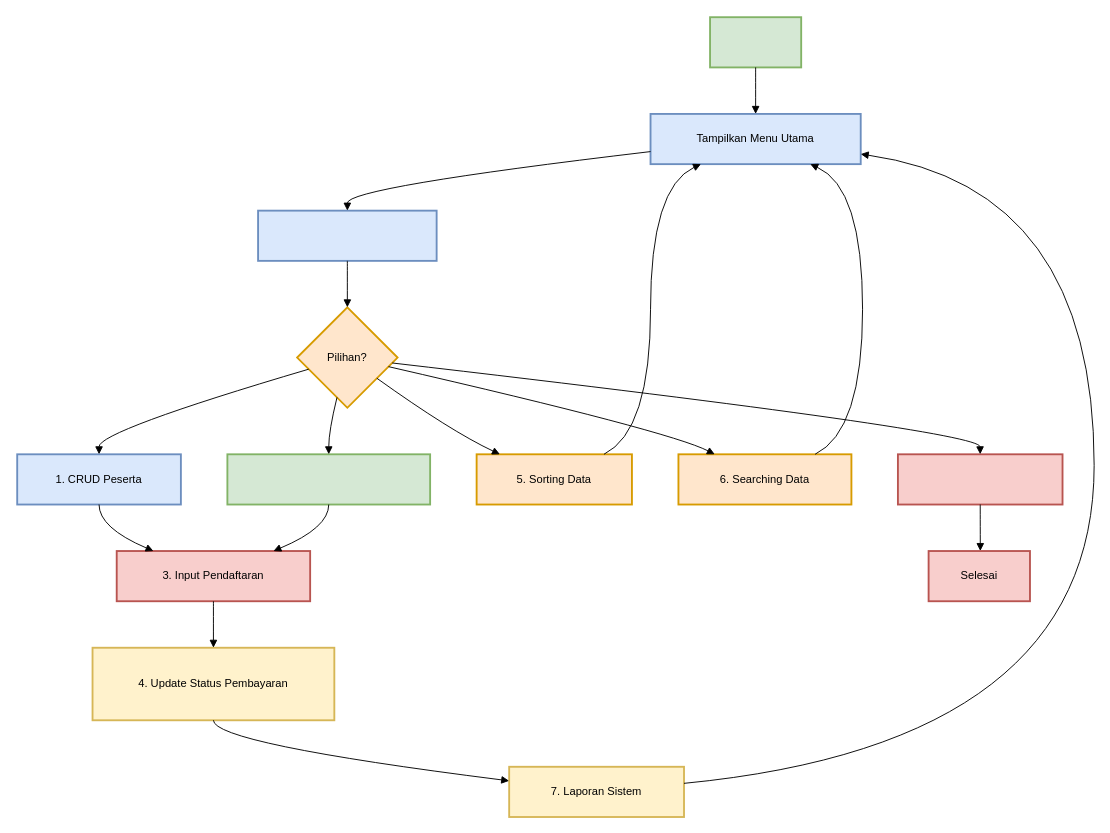
Some shapes in this 1110 by 833 pixel diagram are drawn without their labels. The shapes that lost their labels are listed below. From the top down, each one's centre as x and y in pixels, then its label:
At (755,42): "Mulai".
At (347,235): "Input Pilihan Menu".
At (328,479): "2. CRUD Kelas / Paket".
At (980,479): "0. Keluar Sistem".
